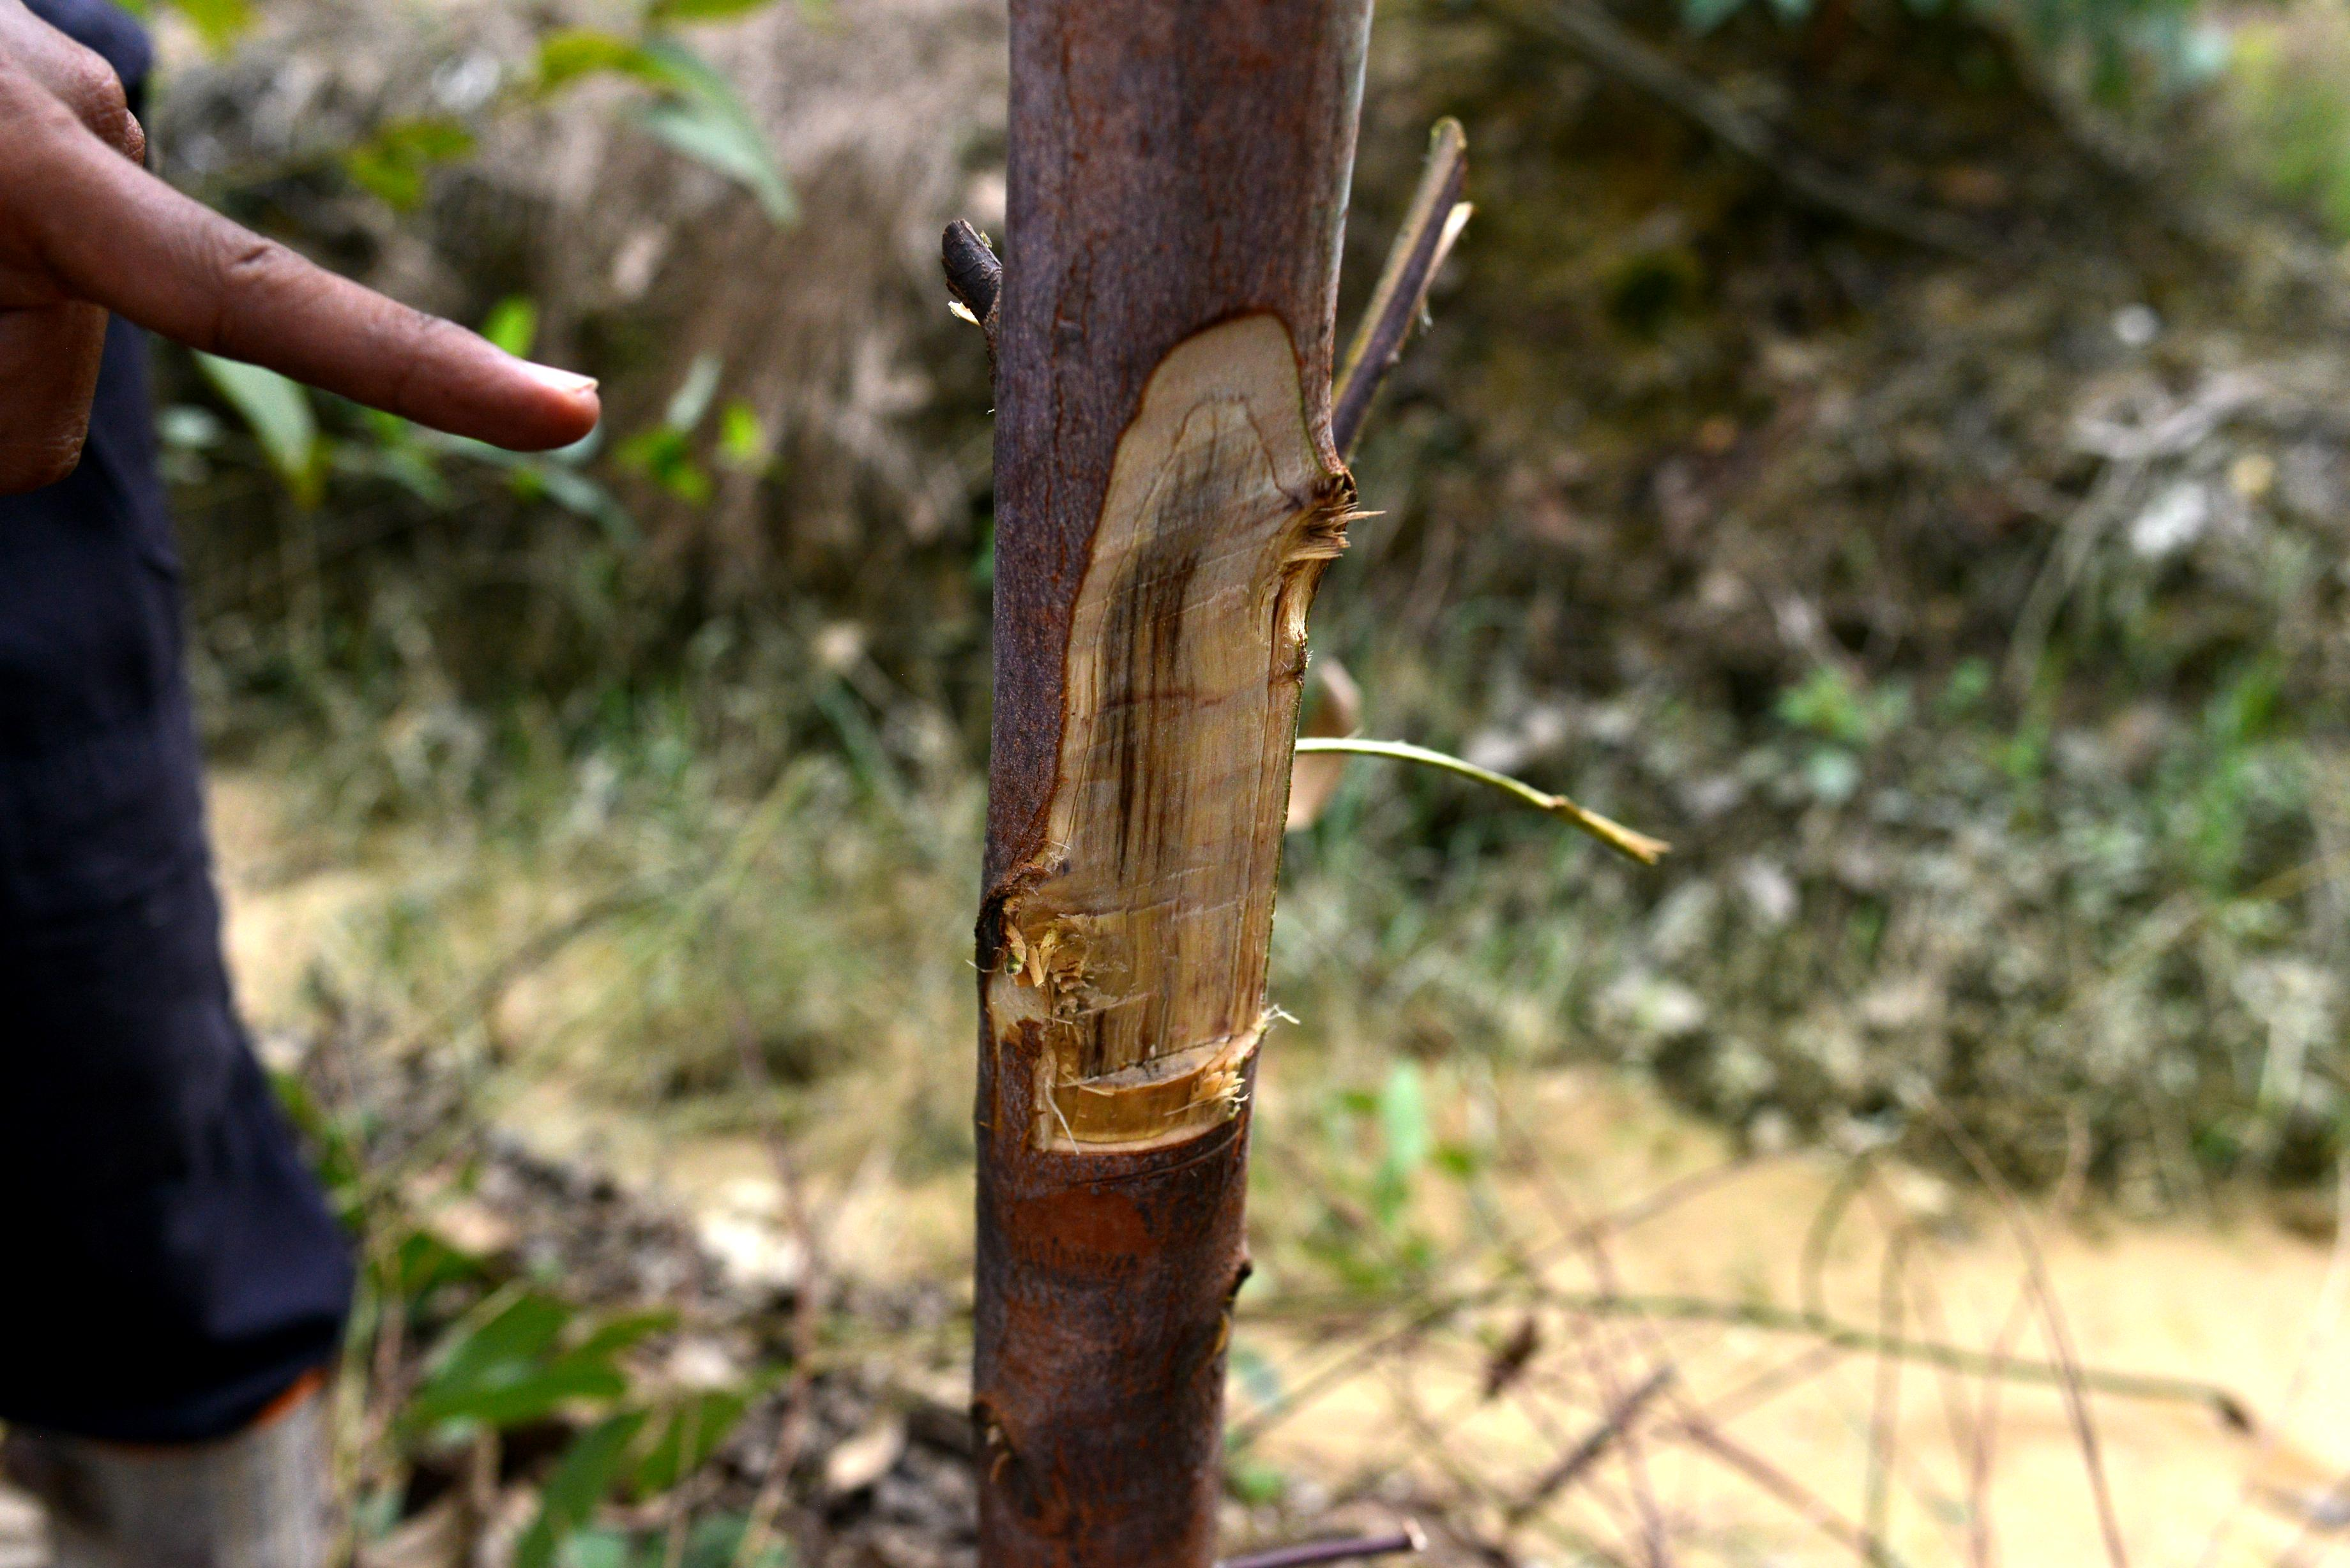Ralstonia: (1032, 306, 1262, 1143)
